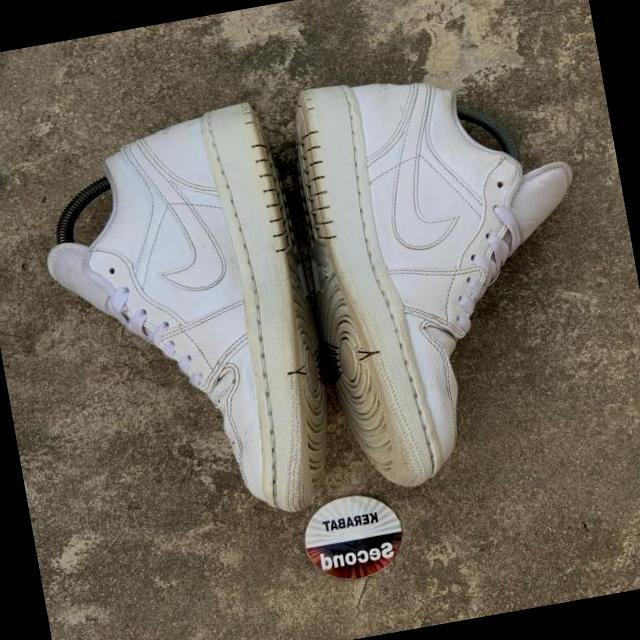nike_original_airforce: (280, 50, 618, 497), (28, 100, 346, 545)
